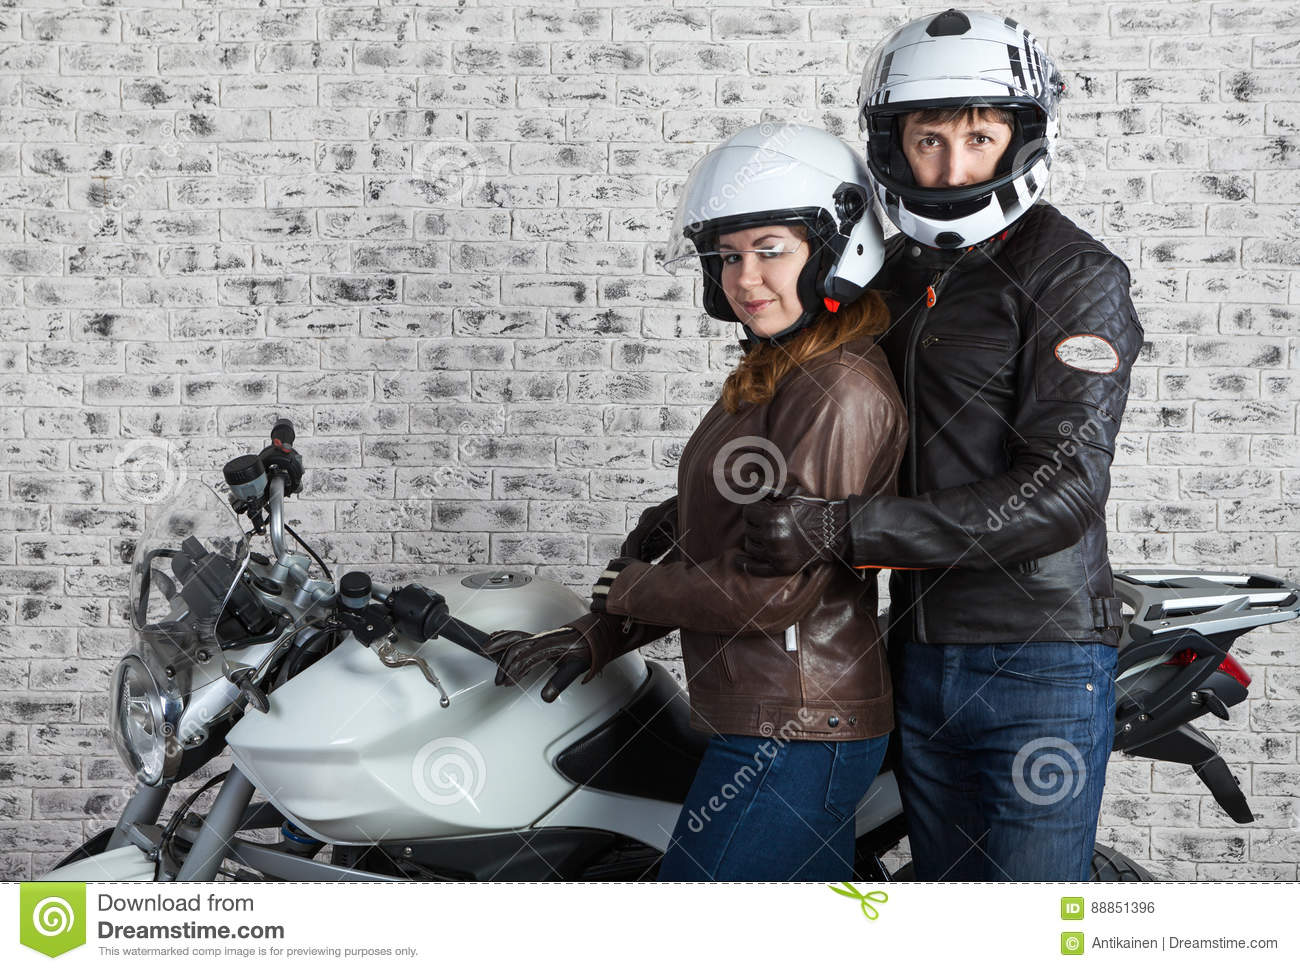helmet: (855, 41, 1078, 244), (675, 107, 890, 310)
